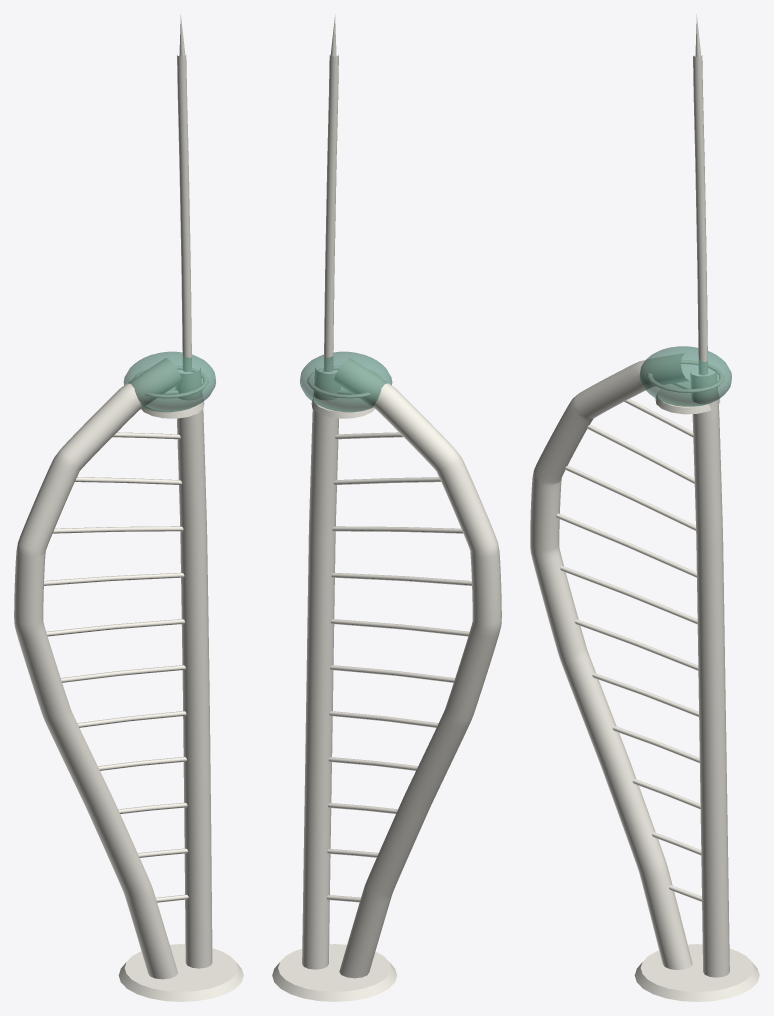
File: spinnaker-tower.glb
3 renders of one model, left to right at view 1: azimuth 30°, elevation 25°; view 2: azimuth 150°, elevation 25°; view 3: azimuth 330°, elevation 25°, orthographic.
Parts seen in each view (by area): view 1: spinnaker; view 2: spinnaker; view 3: spinnaker.
Part boxes in pixels (x1,y1,x2,y2): spinnaker: [14, 14, 243, 1001]; spinnaker: [272, 14, 501, 1001]; spinnaker: [530, 14, 759, 1001].
Size of the model in its own units: 40.54 by 170 by 20.03.
